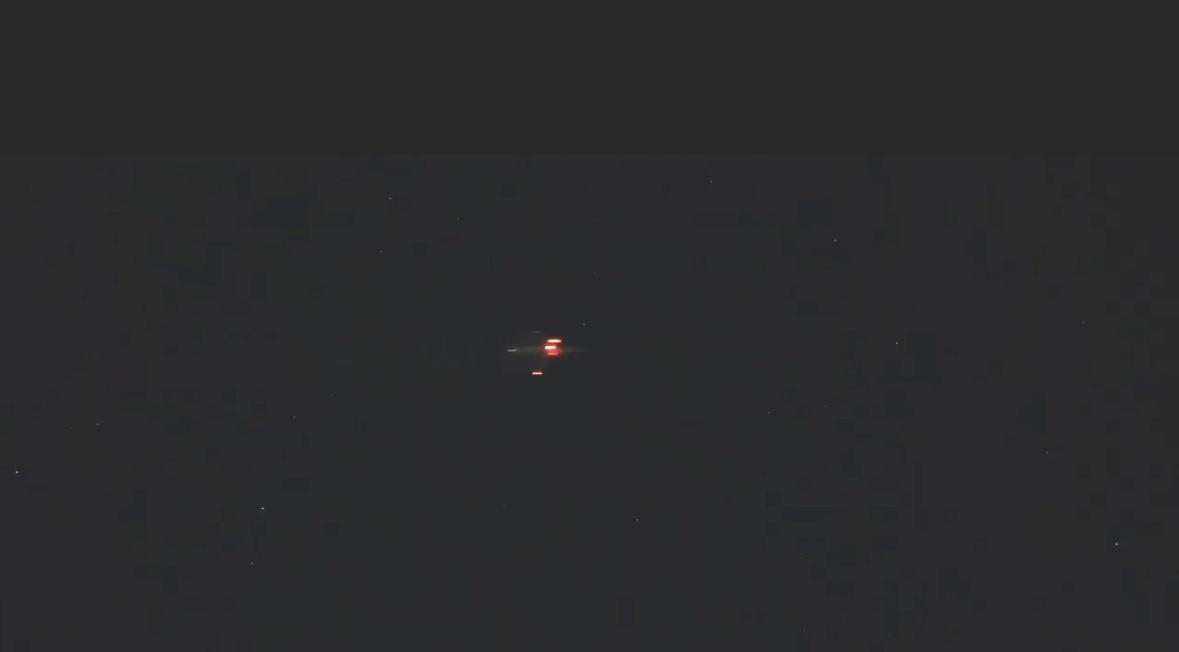Plane: (480, 317, 606, 392)
